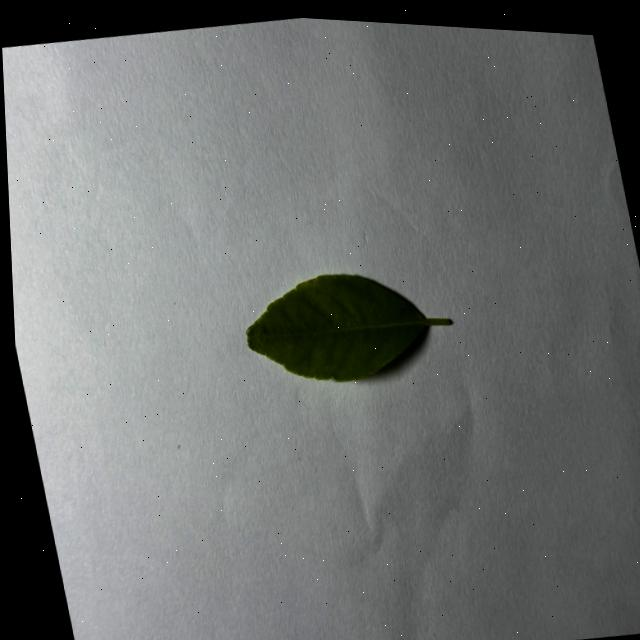greening: (247, 274, 451, 381)
